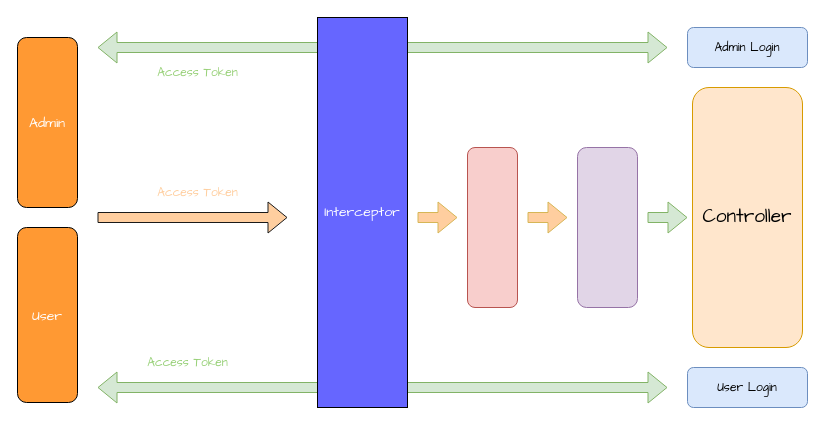
Some shapes in this 825 by 425 pixel diagram are drawn without their labels. The shapes that lost their labels are listed below. From the top down, each one's box as (x1, y1, x2, y2) in pixels, then its label:
(466, 146, 518, 308): Admin Or User ?
(576, 146, 638, 308): has authority ?
